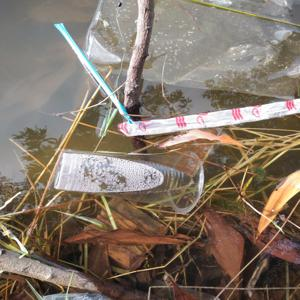plastic: (83, 1, 300, 103), (50, 142, 213, 220), (38, 14, 143, 128), (114, 109, 300, 146)
